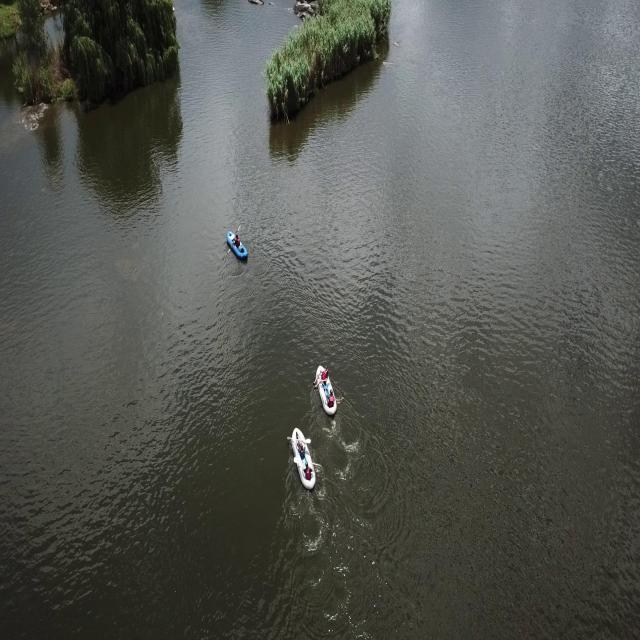kayak: (285, 424, 323, 494), (309, 362, 343, 422), (226, 222, 250, 267)
